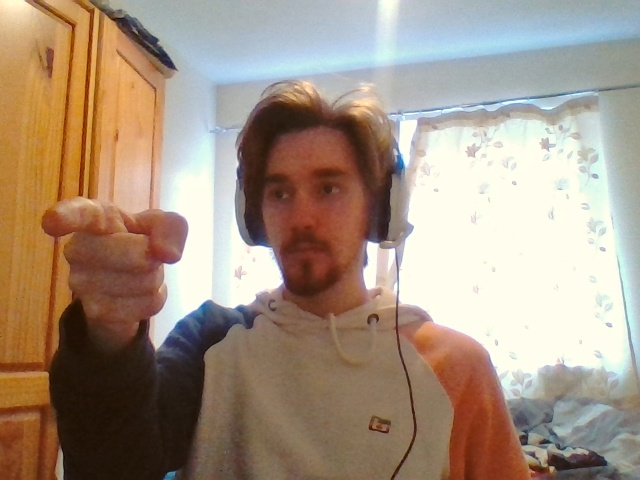you: (42, 195, 188, 323)
